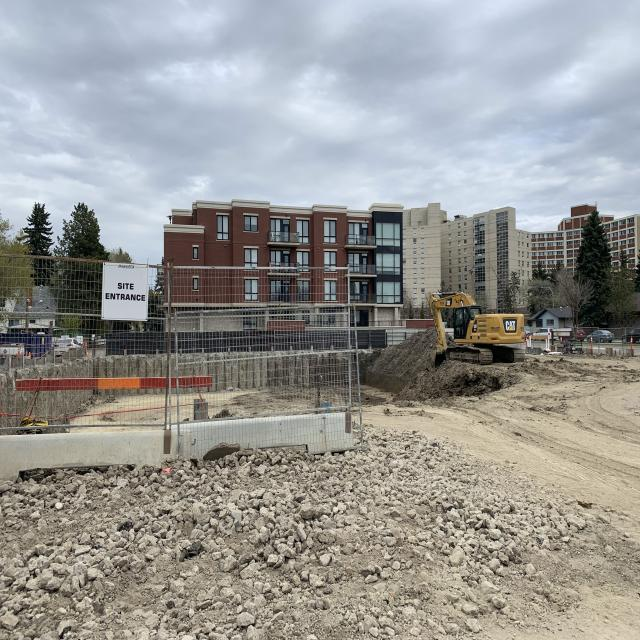excavator: (418, 290, 542, 365)
